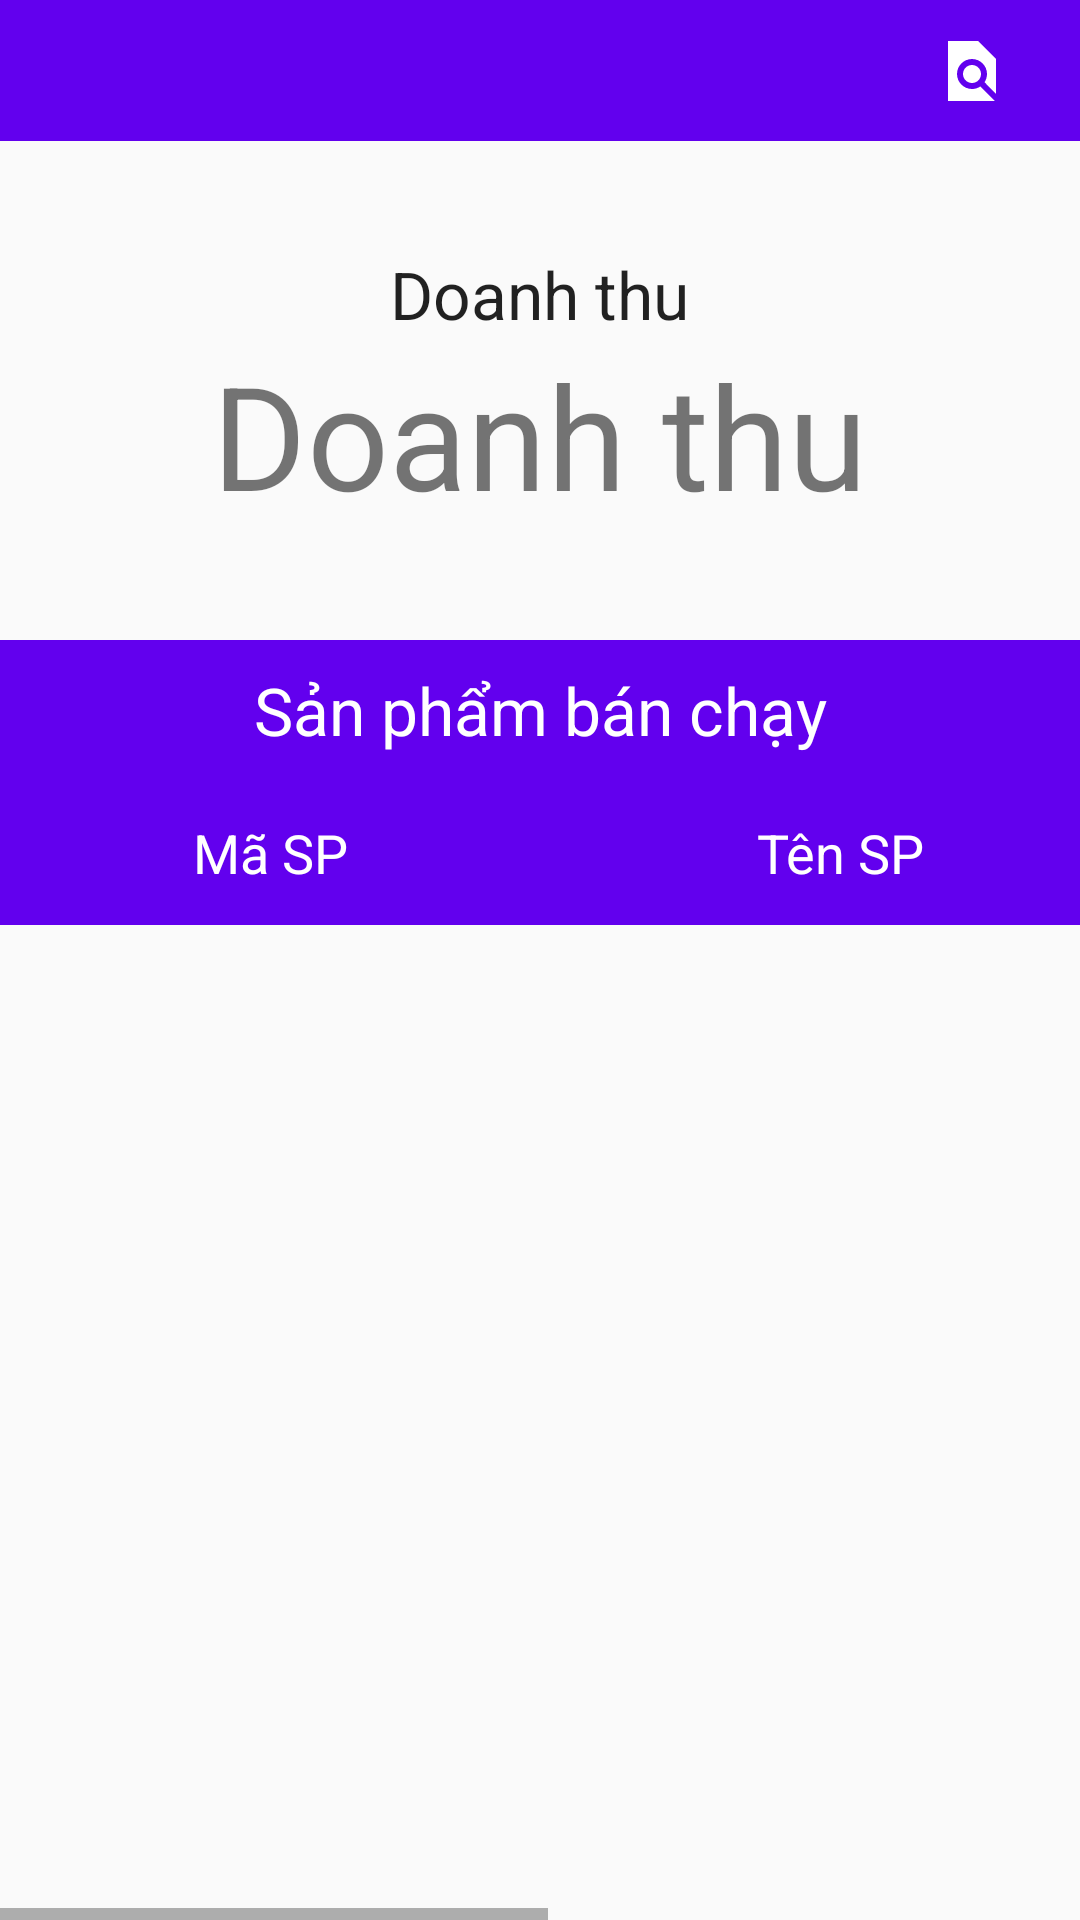

Icon click points for this 1080x1920 phone screenshot, format point (x, y):
find in page: point (972, 71)
